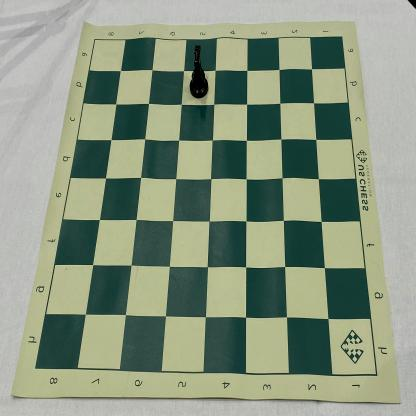black-knight: (188, 44, 210, 98)
